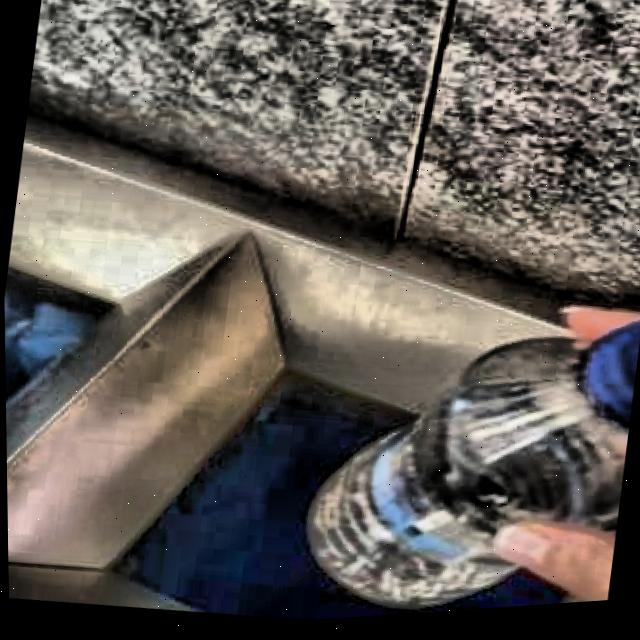plastic: (306, 331, 640, 614)
